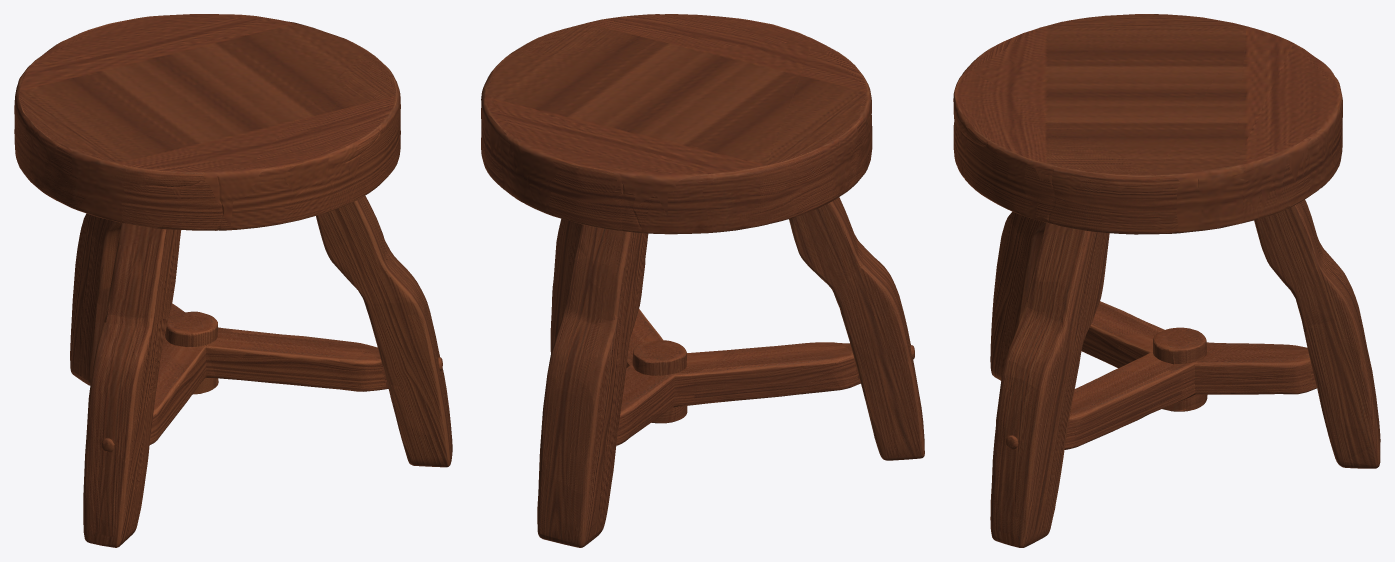
3 renders of one model, left to right at view 1: azimuth 30°, elevation 25°; view 2: azimuth 150°, elevation 25°; view 3: azimuth 270°, elevation 25°, orthographic.
Size of the model in its own units: 1.9 by 1.78 by 1.89.
1 material, 1 textured.
